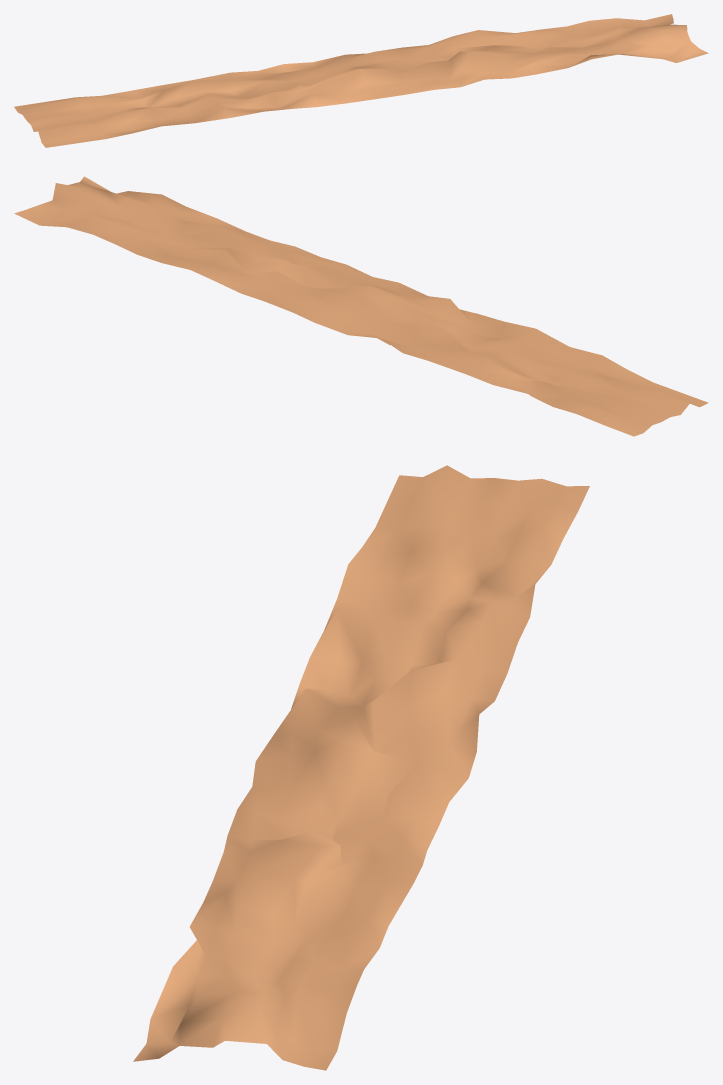
File: agua.fbx
The picture shows the model from 3 angles, top to bottom: view 1: azimuth 30°, elevation 25°; view 2: azimuth 150°, elevation 25°; view 3: azimuth 270°, elevation 25°; orthographic projection. The views are drawn at different scales.
Visible parts, largest first — view 1: Plane.006; view 2: Plane.006; view 3: Plane.006.
Boxes of the visible parts, x1,y1,x2,y2 form: Plane.006: (14,14,708,147); Plane.006: (14,176,708,436); Plane.006: (133,465,589,1070).
Size of the model in its own units: 138 by 4.99 by 45.06.
